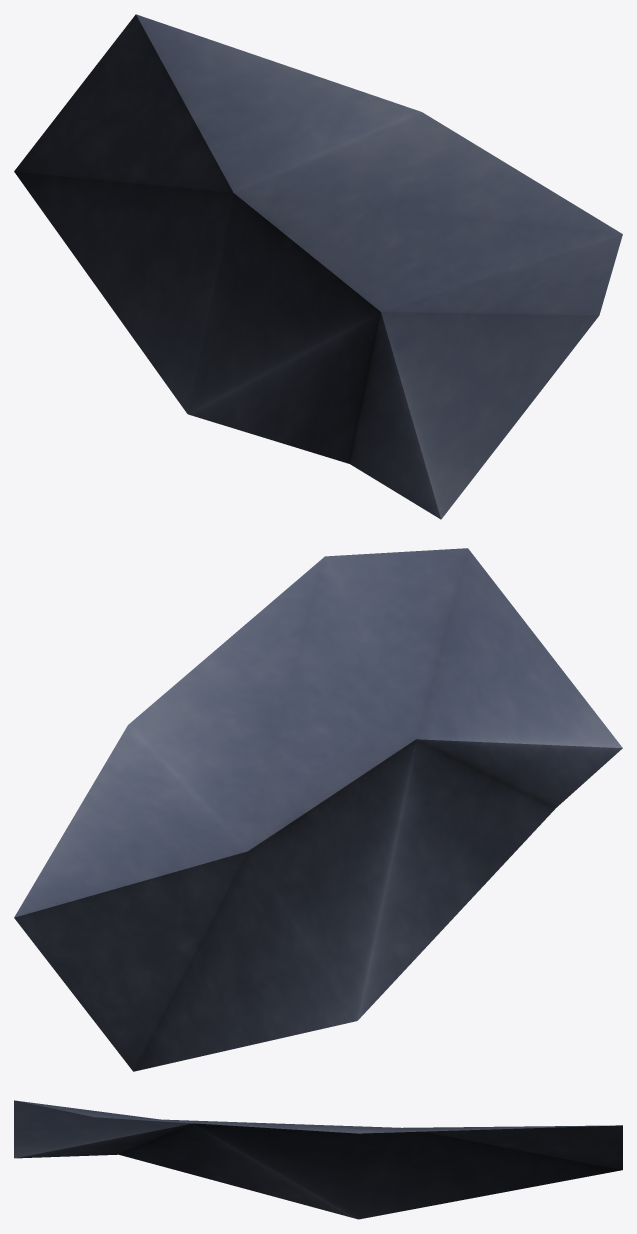
Rendered from SM_Ceiling_Edge_B_A.fbx.
3 views of the same model, one above another, from view 1: azimuth 30°, elevation 25°; view 2: azimuth 150°, elevation 25°; view 3: azimuth 270°, elevation 25° (orthographic). The views are drawn at different scales.
Parts seen in each view (by area): view 1: pCube204; view 2: pCube204; view 3: pCube204.
Part boxes in pixels (<box>): pCube204: <box>14,14,622,519</box>; pCube204: <box>14,548,622,1071</box>; pCube204: <box>14,1100,622,1219</box>.
Bounding box in the file's own units: 0.317 × 0.3214 × 1.
